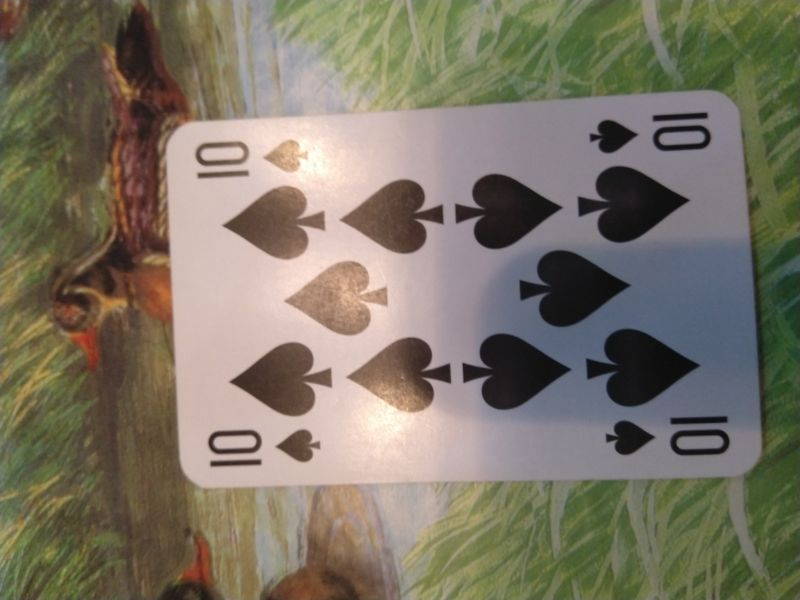Ts: (593, 408, 743, 464), (181, 132, 320, 182), (200, 418, 329, 471), (581, 108, 720, 157)
